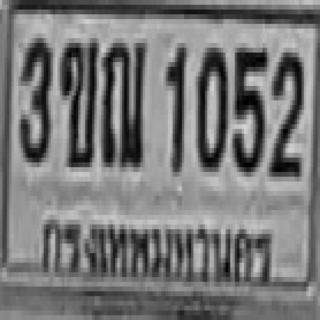A02: (60, 34, 97, 162)
A19: (99, 38, 145, 162)
N00: (196, 43, 226, 167)
N01: (163, 40, 184, 170)
N02: (268, 48, 300, 172)
N03: (18, 33, 51, 158)
N05: (230, 43, 265, 172)
P04: (35, 206, 276, 294)
